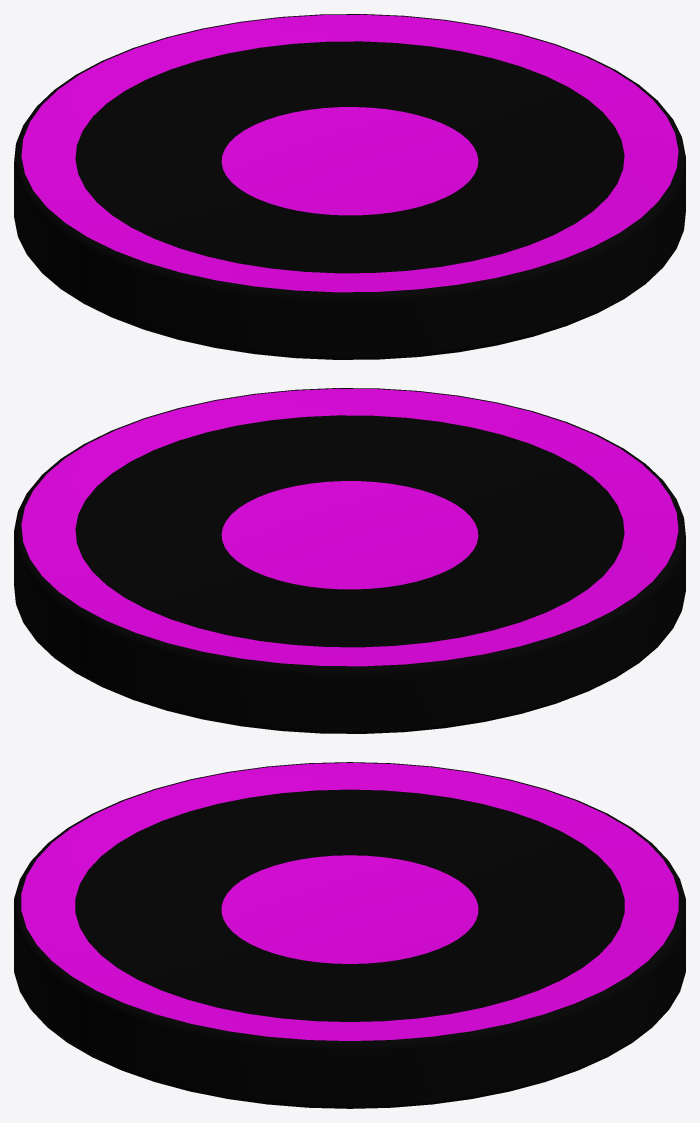
3 views of the same model, one above another, from view 1: azimuth 30°, elevation 25°; view 2: azimuth 150°, elevation 25°; view 3: azimuth 270°, elevation 25° (orthographic).
Parts seen in each view (by area): view 1: pCylinder1; view 2: pCylinder1; view 3: pCylinder1.
Boxes of the visible parts, box(x1,y1,x2,y2) form: pCylinder1: box(14, 14, 685, 359); pCylinder1: box(14, 388, 685, 733); pCylinder1: box(14, 762, 685, 1108).
Bounding box in the file's own units: 20 × 2.21 × 19.96.
